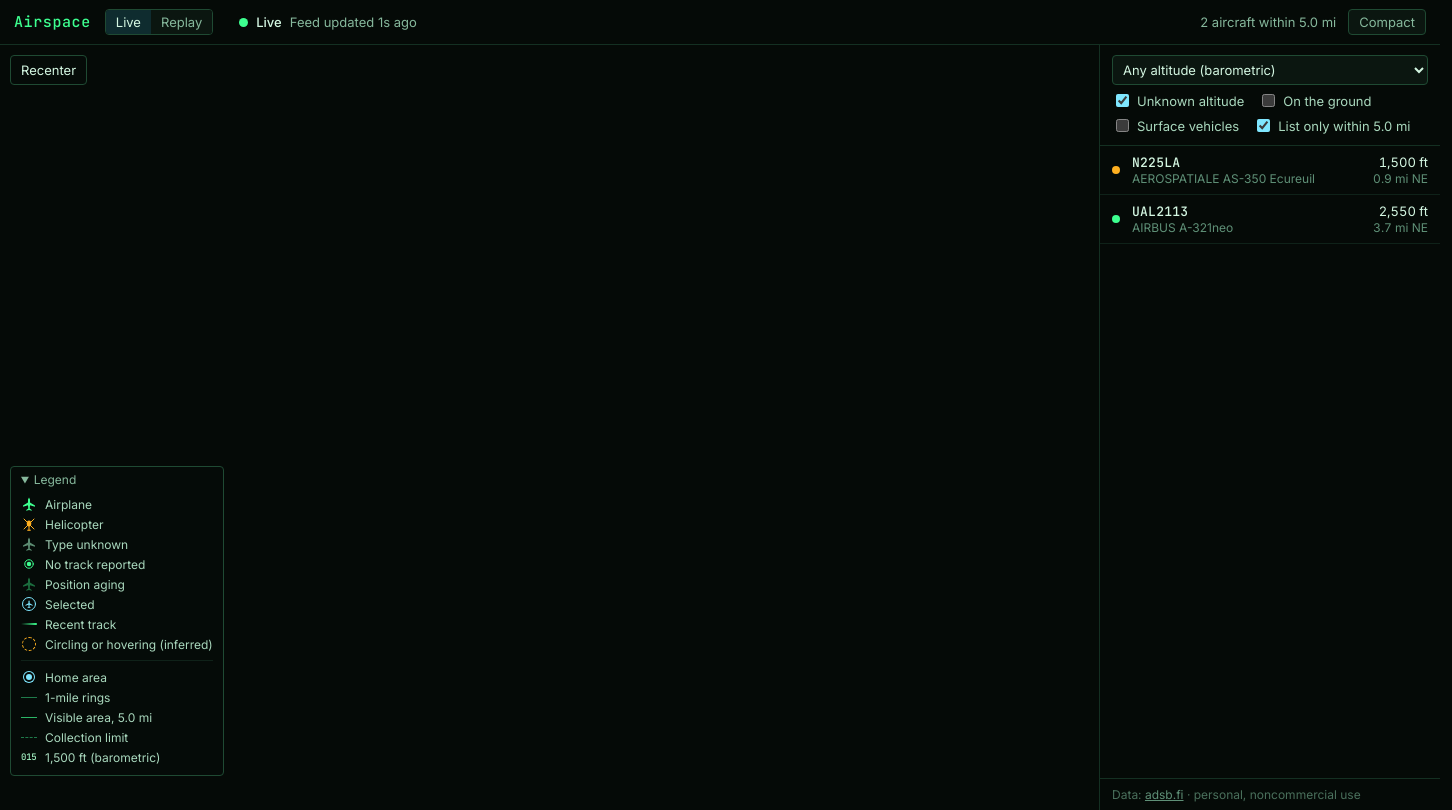
Scenario: App › keeps a filtered-out selection visible in the detail panel
Click the button "UAL2113 AIRBUS A-321neo 2,550 ft 3.7 mi NE": click(1160, 212) [1100,195,1440,244]
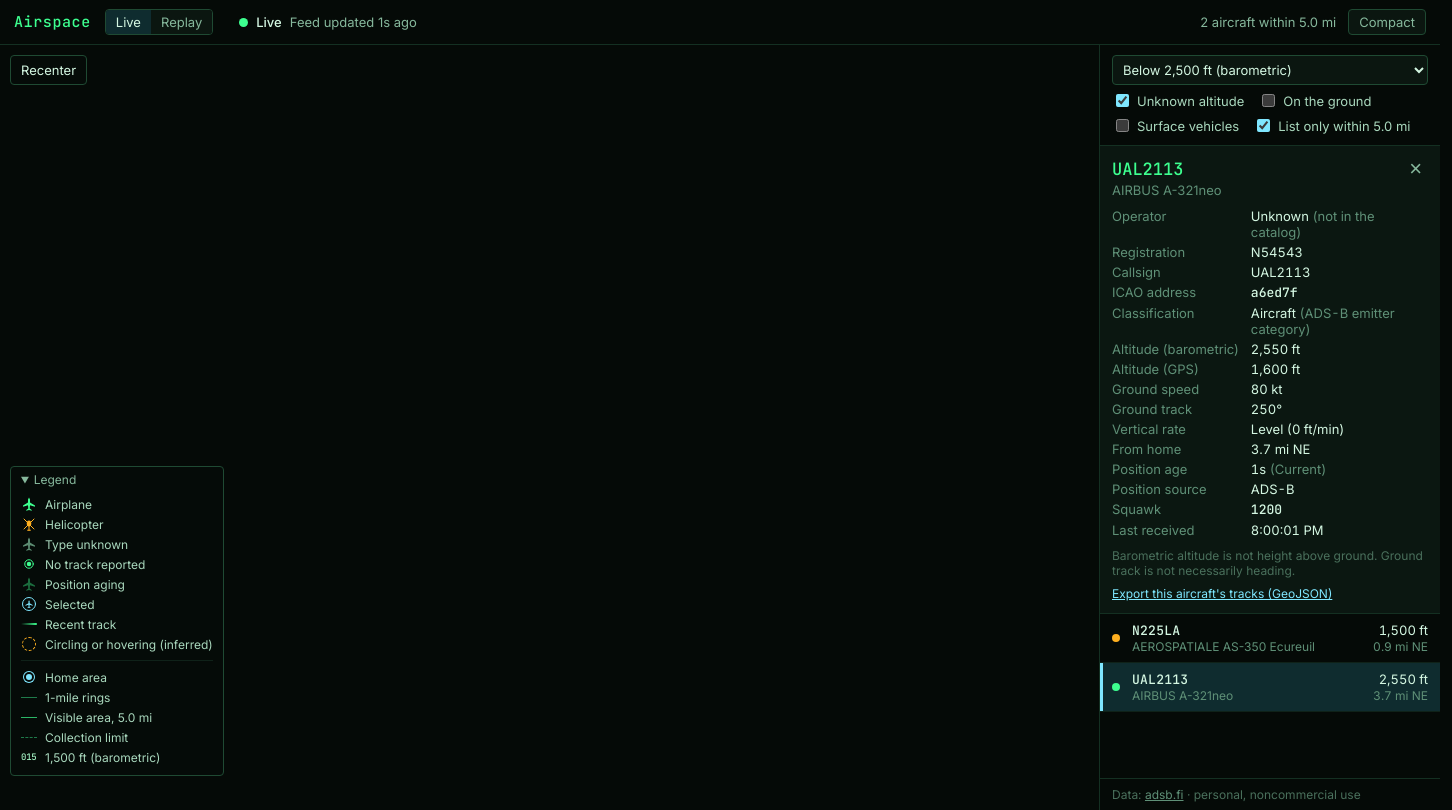
Expected: the element with test id "detail" does not show "Hidden from the map", [1100,146,1440,614]
Select "Below 2,500 ft (barometric)" in the dropdown with test id "altitude-filter": (1270, 70) [1112,55,1428,85]
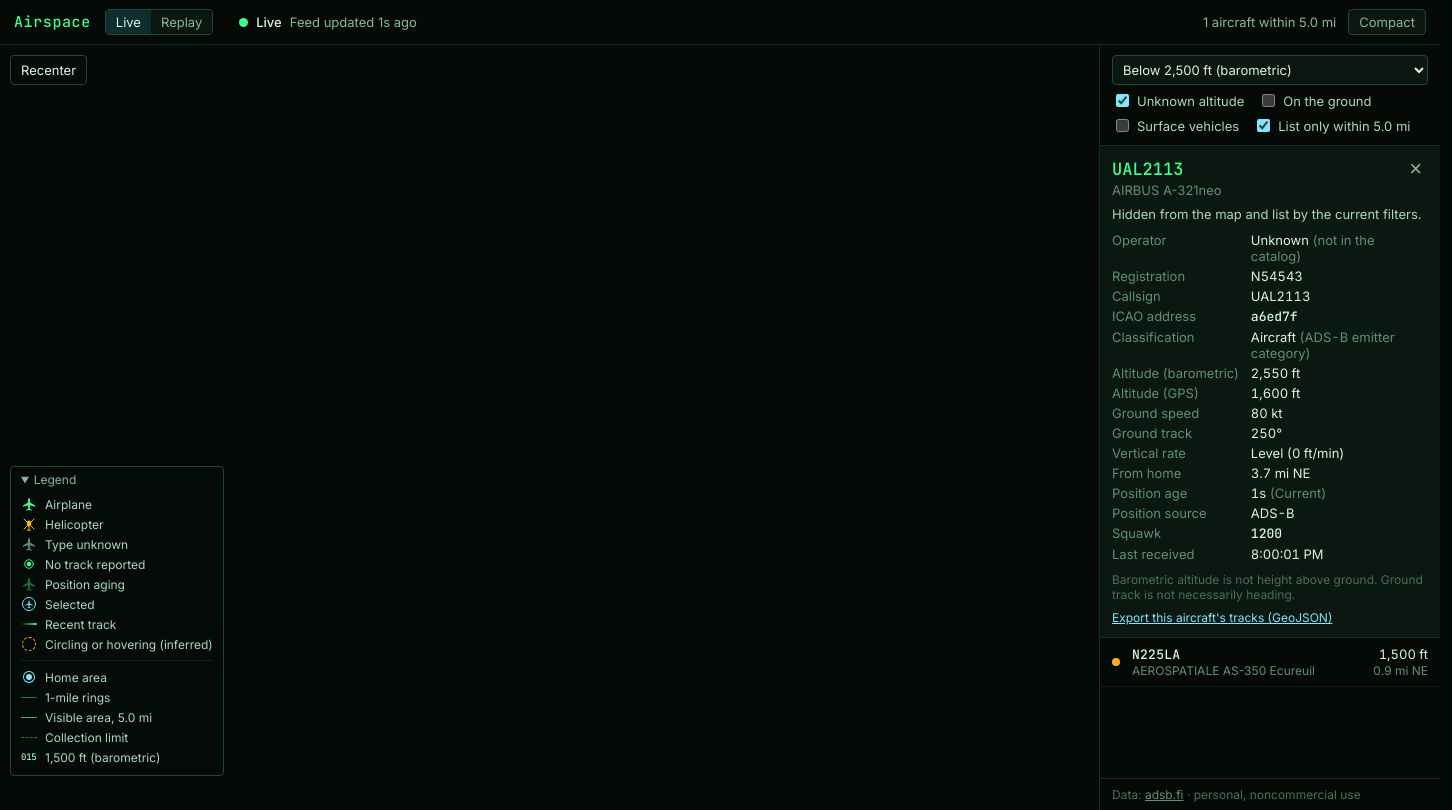
Now the element with test id "detail" shows "UAL2113", box [1112,158,1183,180]
Now the element with test id "detail" shows "Hidden from the map and list by the current filters", box [1112,206,1422,222]
